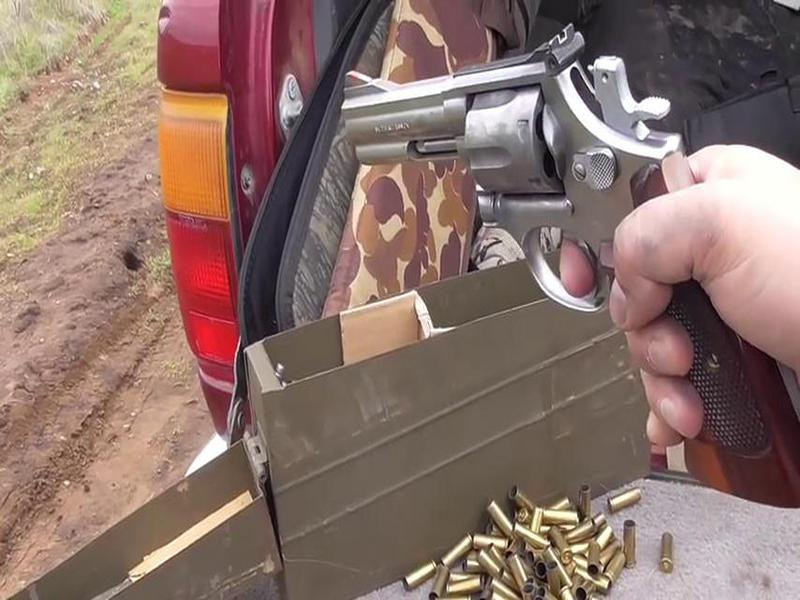Revolver: (342, 19, 800, 492)
